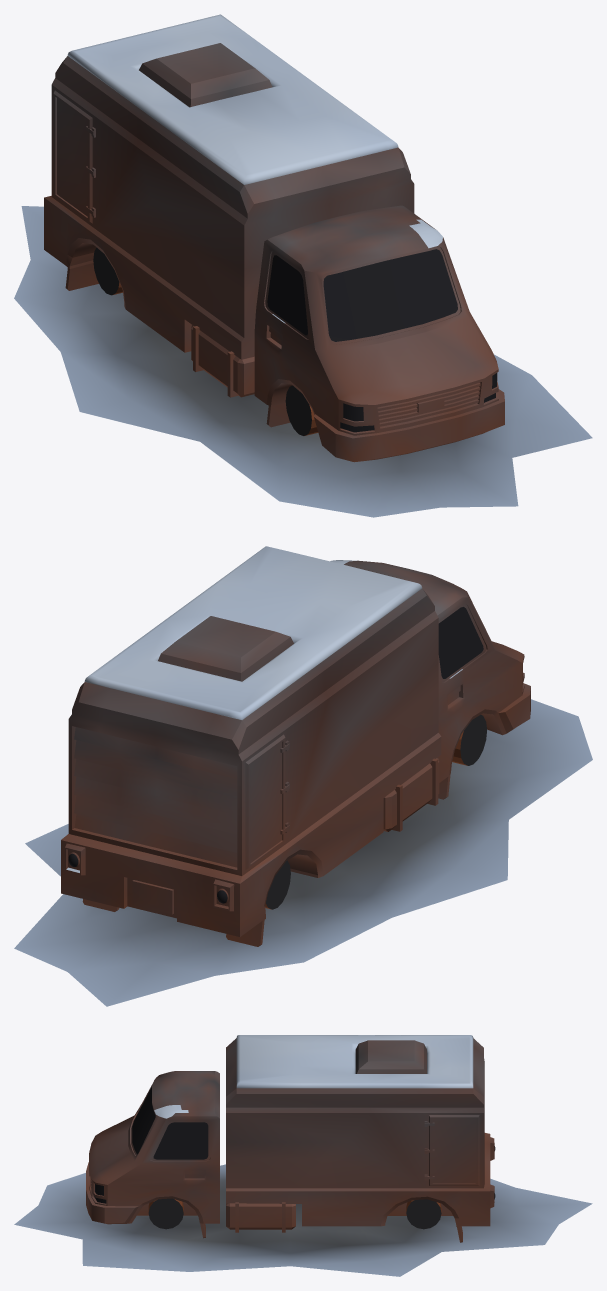
The model's file is box_truck_burnt.glb.
The picture shows the model from 3 angles, top to bottom: view 1: azimuth 30°, elevation 25°; view 2: azimuth 150°, elevation 25°; view 3: azimuth 270°, elevation 25°; orthographic projection. The views are drawn at different scales.
Parts seen in each view (by area): view 1: Body; view 2: Body; view 3: Body.
Boxes of the visible parts, box(x1,y1,x2,y2) form: Body: box(14, 14, 592, 517); Body: box(14, 546, 592, 1006); Body: box(14, 1035, 592, 1276).
Bounding box in the file's own units: 5.33 × 3.19 × 10.18.
